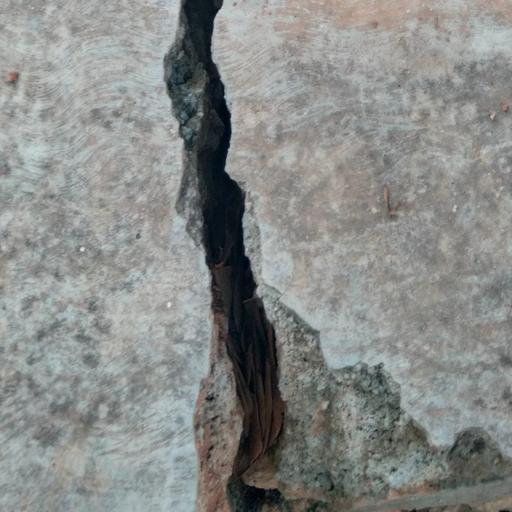major_crack: (148, 0, 320, 512)
